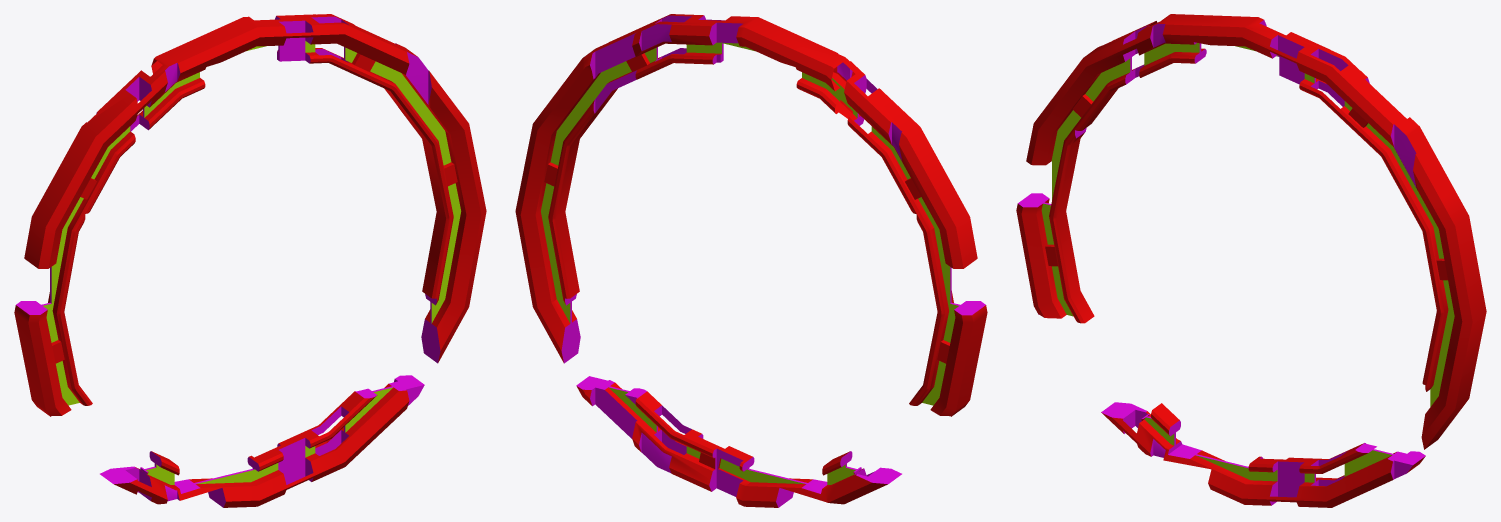
Rendered from Checkpoint_Inactive.fbx.
3 views of the same model, side by side, from view 1: azimuth 30°, elevation 25°; view 2: azimuth 150°, elevation 25°; view 3: azimuth 330°, elevation 25° (orthographic).
Visible parts, largest first — view 1: Checkpoint_Inactive; view 2: Checkpoint_Inactive; view 3: Checkpoint_Inactive.
Part boxes in pixels (<box>): Checkpoint_Inactive: <box>14,14,486,507</box>; Checkpoint_Inactive: <box>515,14,987,507</box>; Checkpoint_Inactive: <box>1016,14,1486,507</box>.
Bounding box in the file's own units: 12 × 12 × 0.8706.
